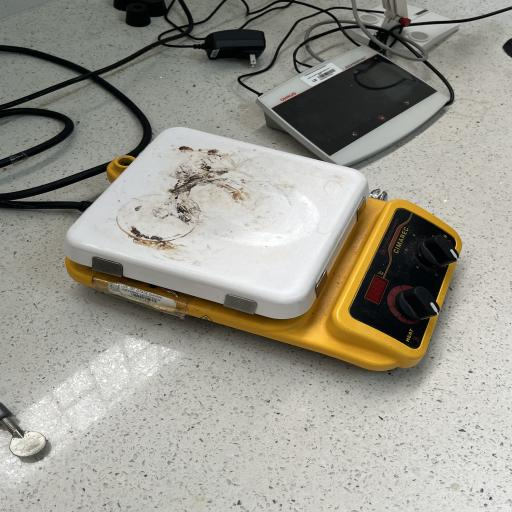Plancha_Agitacion_Cimarec: (44, 117, 472, 392)
